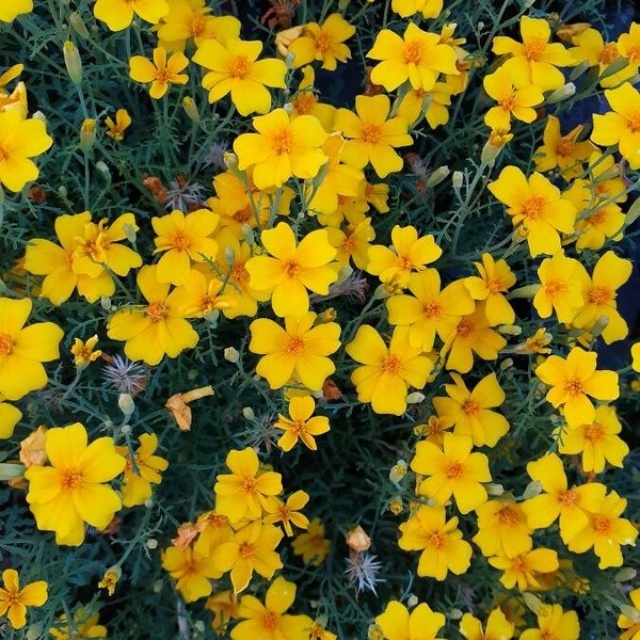obstacle: (123, 87, 550, 593)
